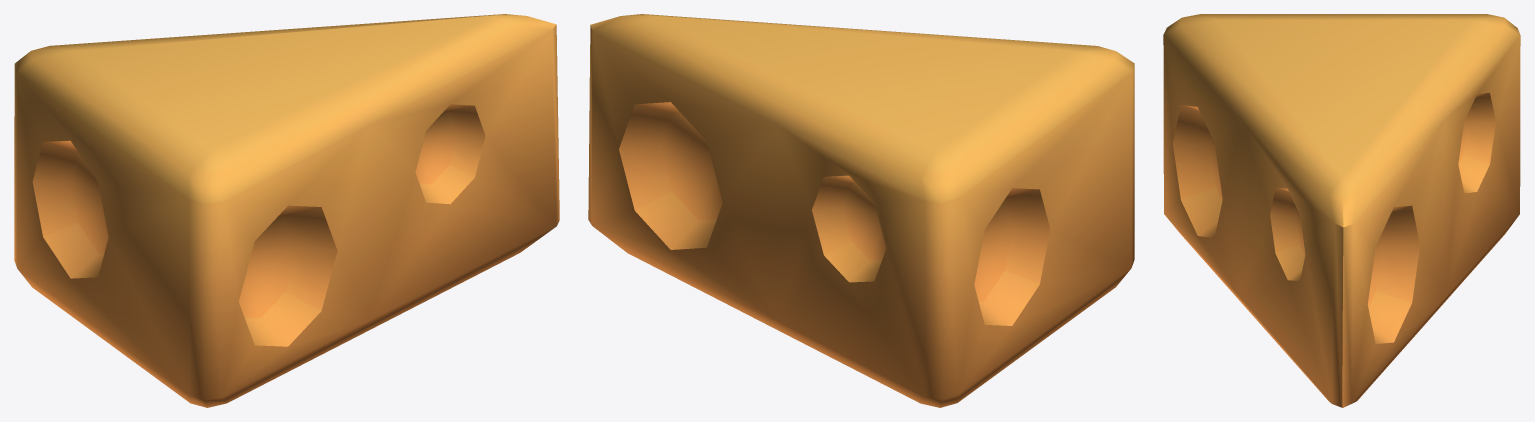
Rendered from cheese.glb.
3 views of the same model, side by side, from view 1: azimuth 30°, elevation 25°; view 2: azimuth 150°, elevation 25°; view 3: azimuth 270°, elevation 25° (orthographic). The views are drawn at different scales.
Parts seen in each view (by area): view 1: food_ingredient_cheese; view 2: food_ingredient_cheese; view 3: food_ingredient_cheese.
Boxes of the visible parts, x1,y1,x2,y2 form: food_ingredient_cheese: (14,14,559,407); food_ingredient_cheese: (588,14,1134,407); food_ingredient_cheese: (1163,14,1520,407).
Size of the model in its own units: 0.9766 by 0.5 by 0.722.
1 material, 1 textured.
